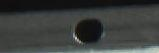holes: (73, 16, 104, 45)
